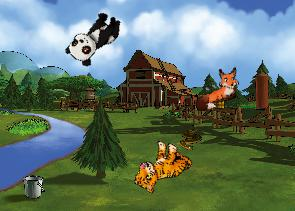fox: (186, 63, 247, 114)
panda: (62, 5, 126, 70)
tiger: (130, 134, 195, 203)
